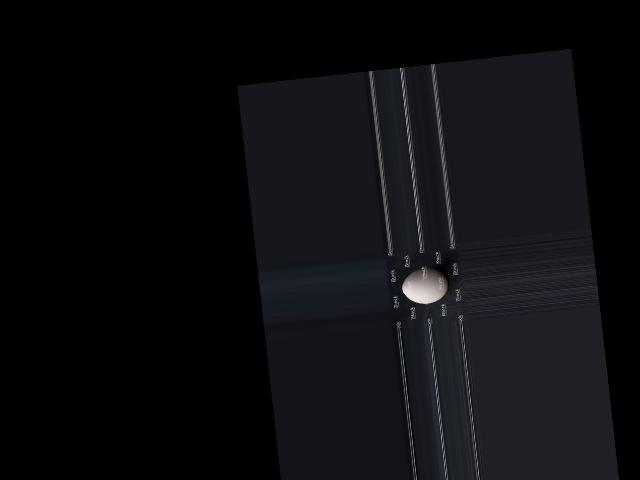egg: (400, 265, 450, 305)
